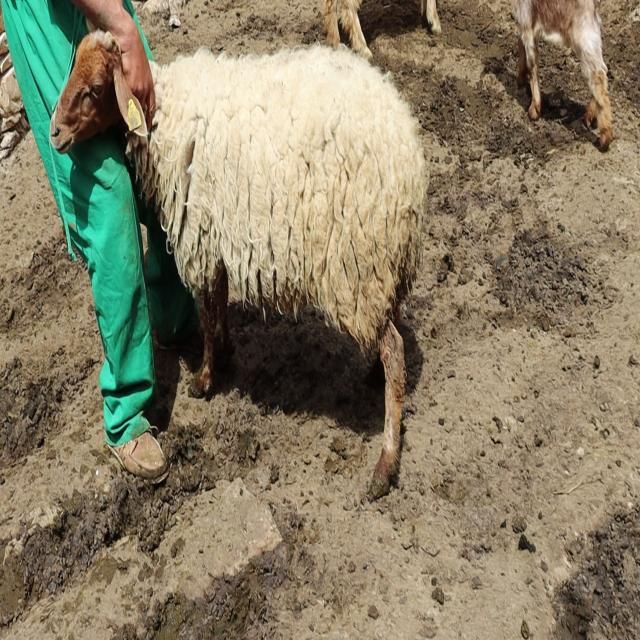Score_4: (50, 27, 427, 497)
